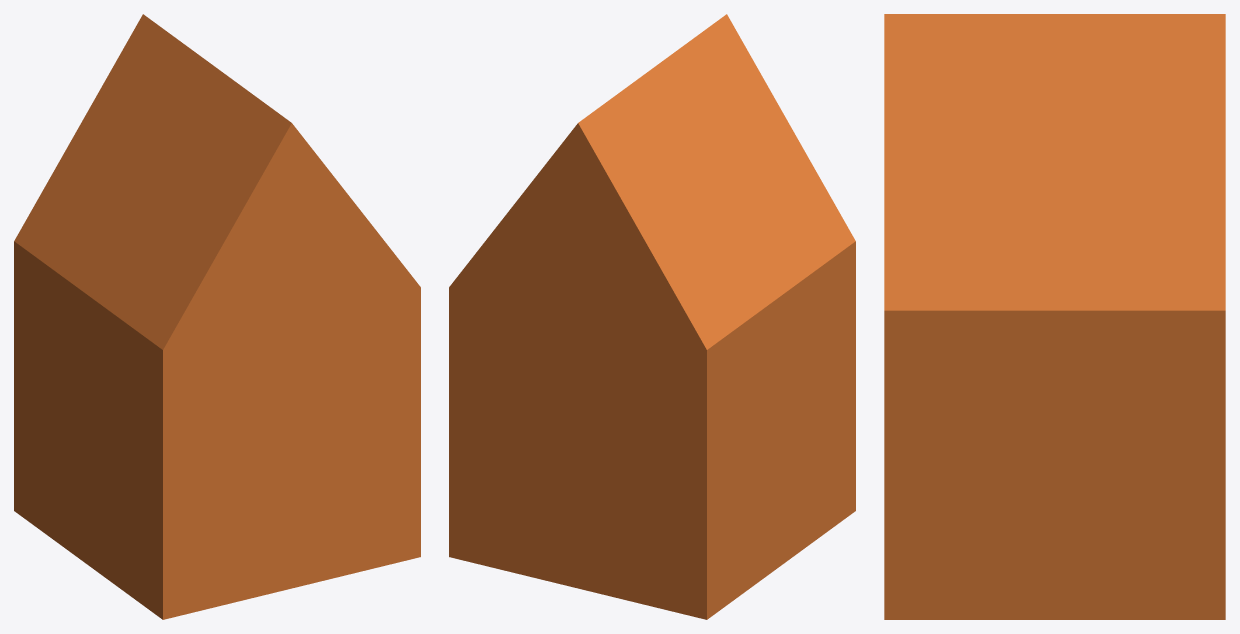
File: example.glb
3 renders of one model, left to right at view 1: azimuth 30°, elevation 25°; view 2: azimuth 150°, elevation 25°; view 3: azimuth 270°, elevation 25°, orthographic. The views are drawn at different scales.
Parts seen in each view (by area): view 1: Cube; view 2: Cube; view 3: Cube.
Boxes of the visible parts, box(x1,y1,x2,y2) form: Cube: box(14, 14, 420, 619); Cube: box(449, 14, 855, 619); Cube: box(884, 14, 1225, 619).
Bounding box in the file's own units: 2 × 3.45 × 2.
